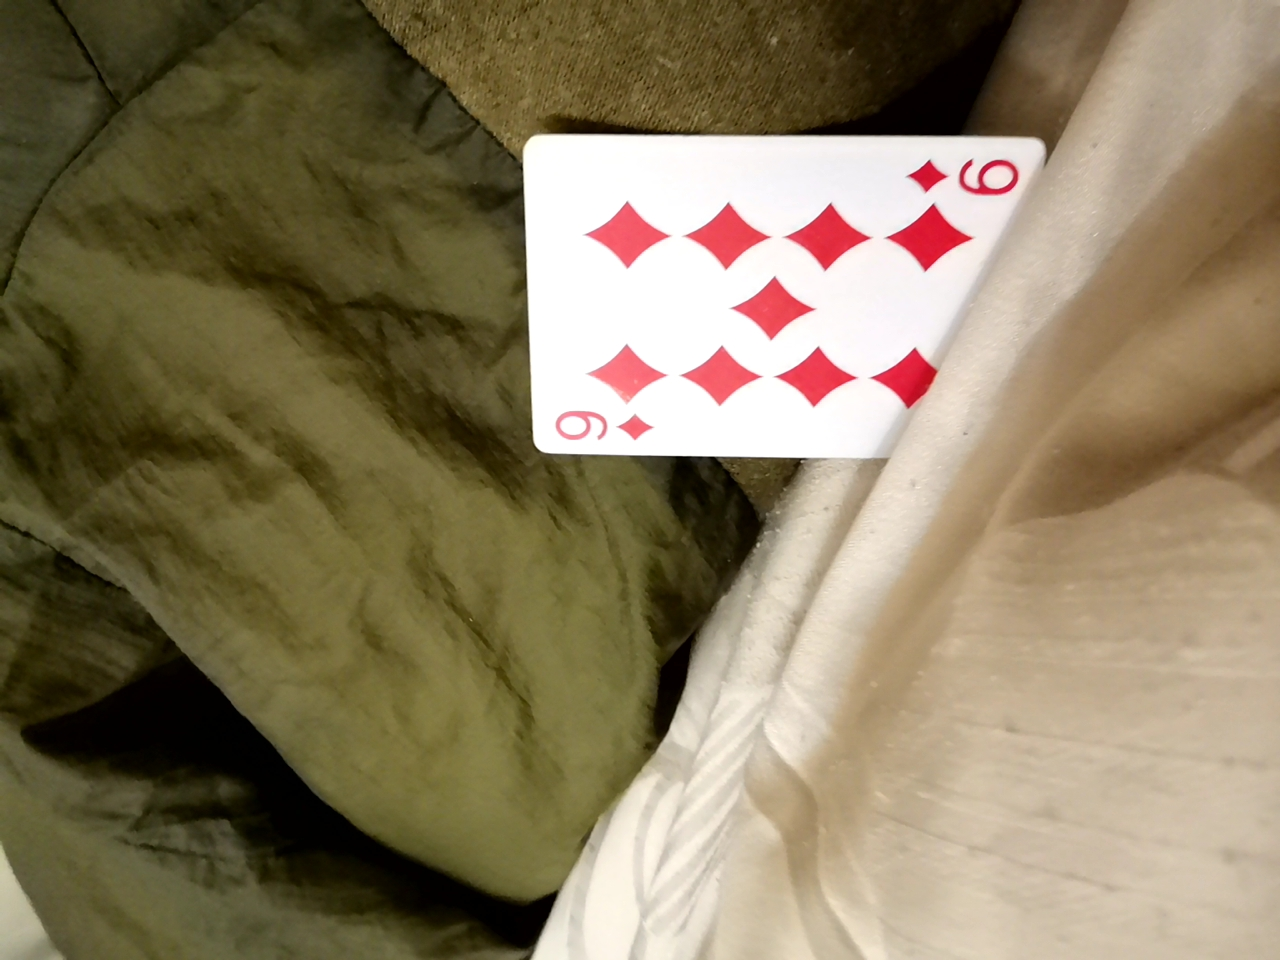fk 9: (535, 107, 1055, 461)
